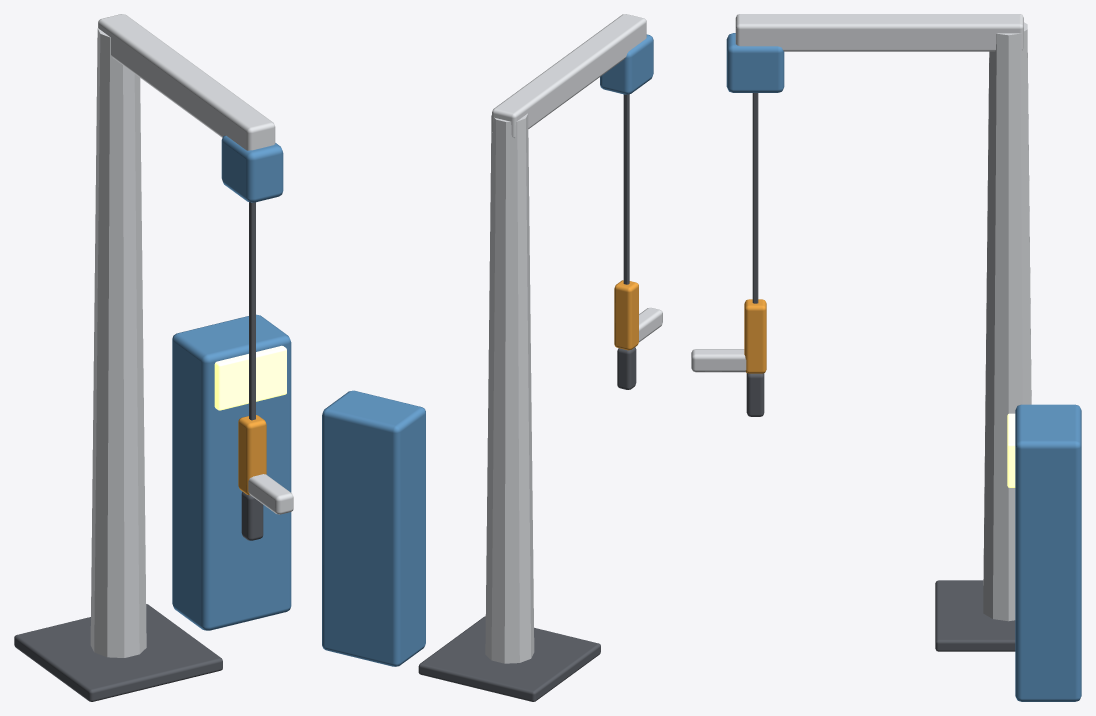
File: torque-tool-on-balancer.glb
The picture shows the model from 3 angles, left to right: view 1: azimuth 30°, elevation 25°; view 2: azimuth 150°, elevation 25°; view 3: azimuth 270°, elevation 25°; orthographic projection. The views are drawn at different scales.
Visible parts, largest first — view 1: torque-tool-on-balancer; view 2: torque-tool-on-balancer; view 3: torque-tool-on-balancer.
Part boxes in pixels (left/top/right/bottom): torque-tool-on-balancer: left=14, top=14, right=293, bottom=701; torque-tool-on-balancer: left=322, top=14, right=662, bottom=701; torque-tool-on-balancer: left=691, top=14, right=1081, bottom=701.
Size of the model in its own units: 1.21 by 3 by 1.76.
